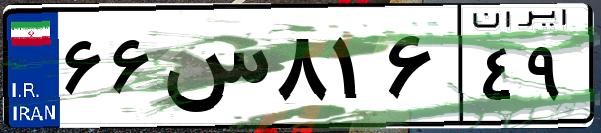1: (330, 28, 385, 110)
4: (475, 38, 525, 113)
6: (385, 28, 445, 110), (57, 26, 110, 100), (110, 28, 158, 98)
8: (270, 28, 330, 110)
9: (525, 38, 570, 115)
س: (158, 20, 270, 120)
